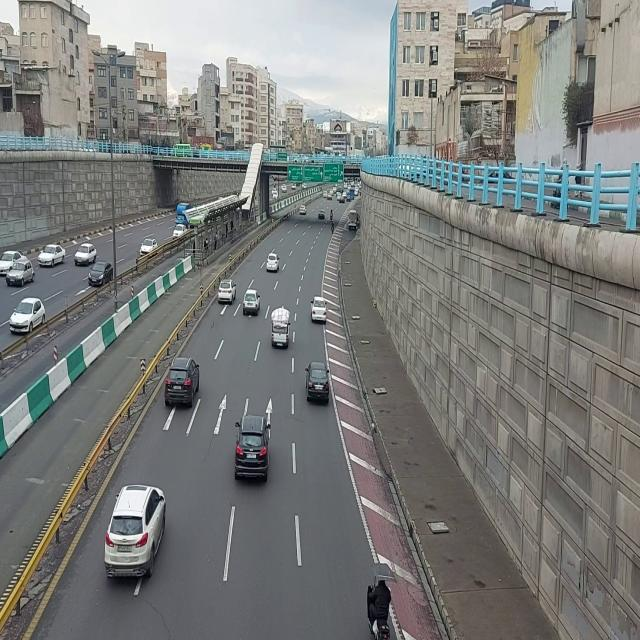Car: (102, 482, 168, 588), (235, 407, 273, 490), (164, 350, 204, 413), (9, 297, 46, 335), (306, 359, 330, 407), (6, 259, 36, 288), (88, 260, 114, 288), (37, 244, 66, 269), (74, 241, 97, 266), (242, 288, 261, 318), (310, 295, 328, 325), (218, 279, 236, 307), (139, 237, 159, 256), (266, 251, 280, 273), (0, 250, 12, 274), (172, 224, 188, 240), (299, 204, 307, 216), (318, 209, 326, 221)
Motorcycle: (365, 567, 395, 640), (331, 220, 335, 235), (330, 208, 334, 222)
Pickup: (269, 308, 293, 350), (174, 202, 190, 225)
